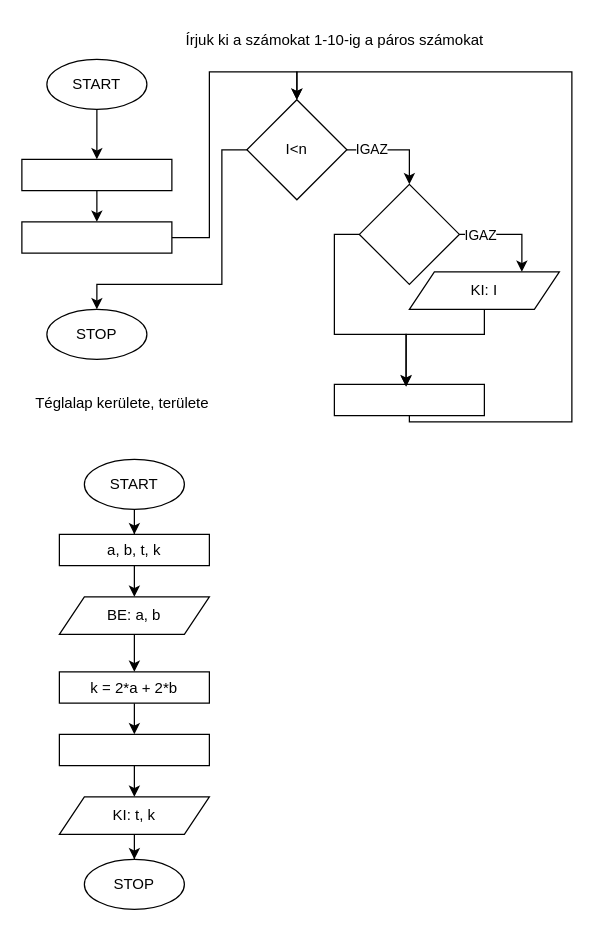
This 604x931 diagram has some shape labels left out. The centre of each missing label's shape, as x and y in pixels:
"I % 2 == 0" goes at (x=408, y=233).
"I += 1" goes at (x=408, y=399).
"I:=1" goes at (x=96, y=237).
"n:=10" goes at (x=96, y=174).
"t = a*b" goes at (x=133, y=749).
